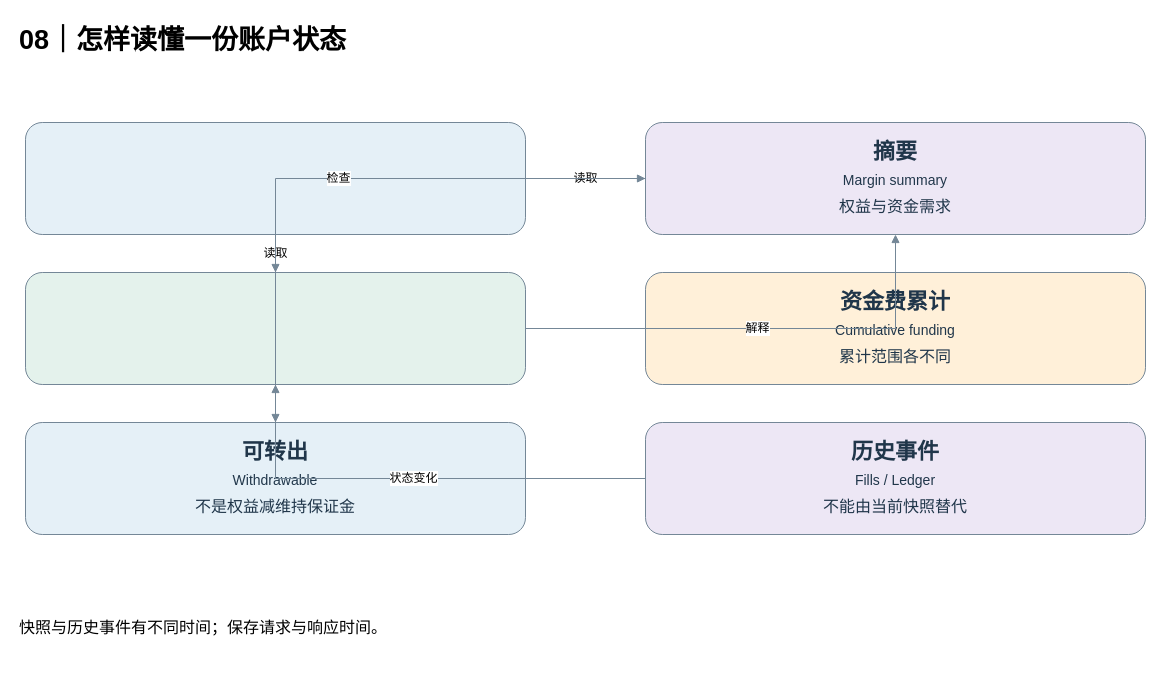
This 1170x690 diagram has some shape labels left out. Each missing label, with the box of its shape:
仓位 Signed position szi、entryPx与估值: (24, 272, 526, 384)
请求范围 User / DEX / Mode 明确观察时点: (24, 122, 526, 234)
